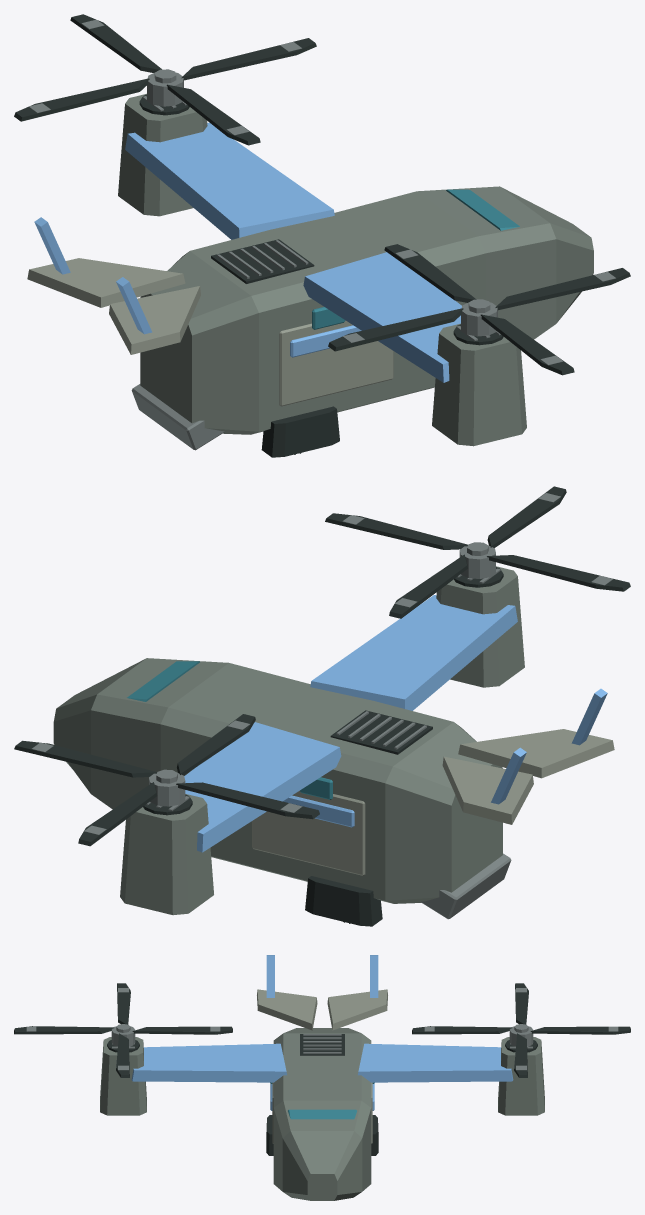
The model's file is tiltrotor.glb.
3 views of the same model, one above another, from view 1: azimuth 30°, elevation 25°; view 2: azimuth 150°, elevation 25°; view 3: azimuth 270°, elevation 25° (orthographic). The views are drawn at different scales.
Parts seen in each view (by area): view 1: Hull, Nacelle.001, RotorR, RotorL, Nacelle; view 2: Hull, Nacelle, RotorL, RotorR, Nacelle.001; view 3: Hull, RotorR, RotorL, Nacelle, Nacelle.001.
Boxes of the visible parts, x1,y1,x2,y2 form: Hull: [27, 122, 593, 457]; Nacelle.001: [432, 323, 526, 446]; RotorR: [328, 244, 630, 375]; RotorL: [14, 14, 316, 145]; Nacelle: [118, 93, 207, 216]; Hull: [53, 595, 614, 926]; Nacelle: [120, 794, 213, 915]; RotorL: [14, 714, 319, 846]; RotorR: [325, 486, 630, 618]; Nacelle.001: [436, 566, 524, 687]; Hull: [131, 955, 513, 1200]; RotorR: [14, 983, 232, 1077]; RotorL: [412, 983, 630, 1077]; Nacelle: [498, 1037, 544, 1115]; Nacelle.001: [100, 1037, 146, 1115].
Size of the model in its own units: 3.71 by 1.55 by 6.2.
